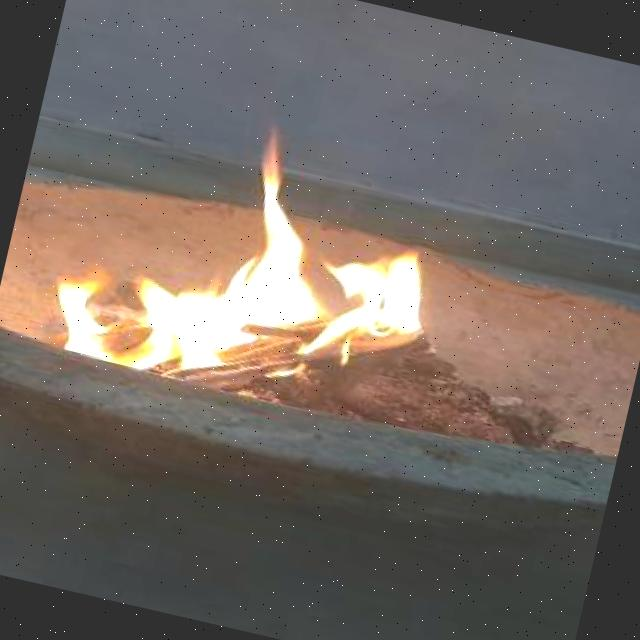fire: (47, 93, 455, 424)
